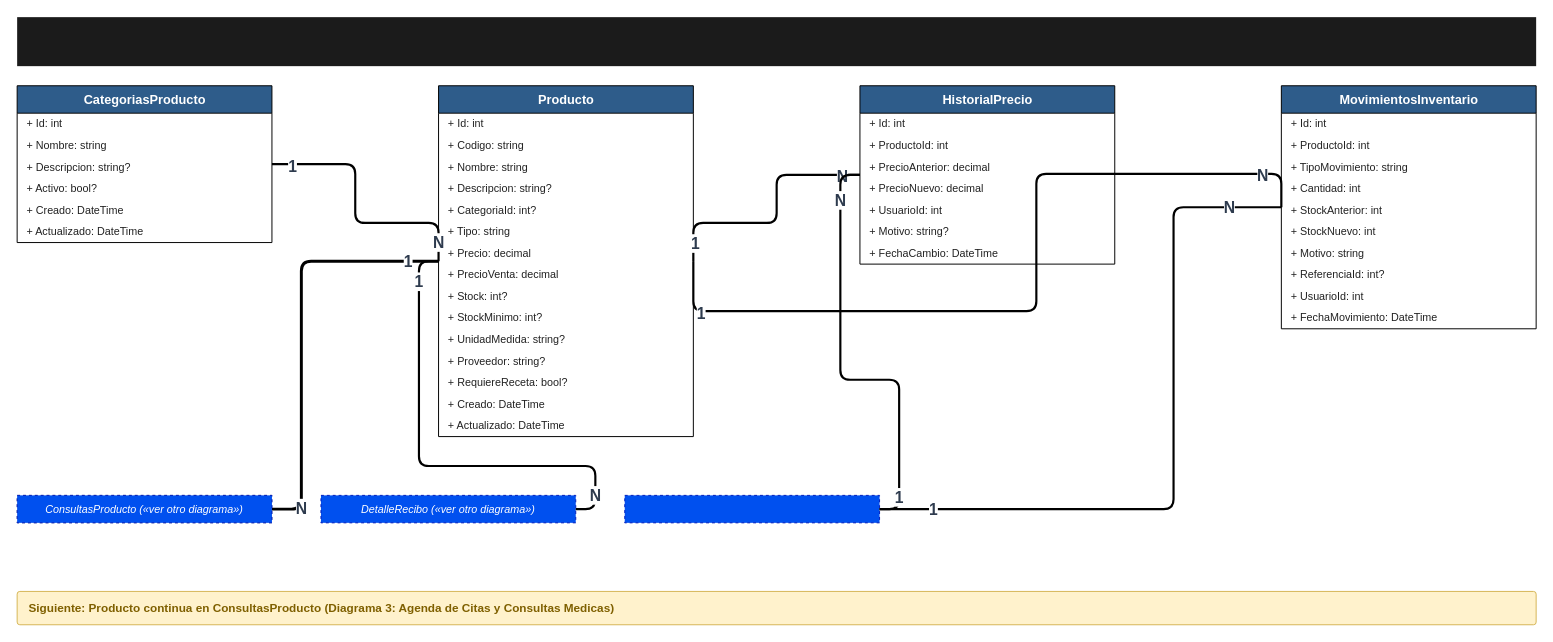
This 1553x642 diagram has some shape labels left out. Each missing label, with the centre of its shape:
"1. Catalogo de Productos e Inventario" belongs at [776,41].
"Usuario («ver otro diagrama»)" belongs at [752,508].
